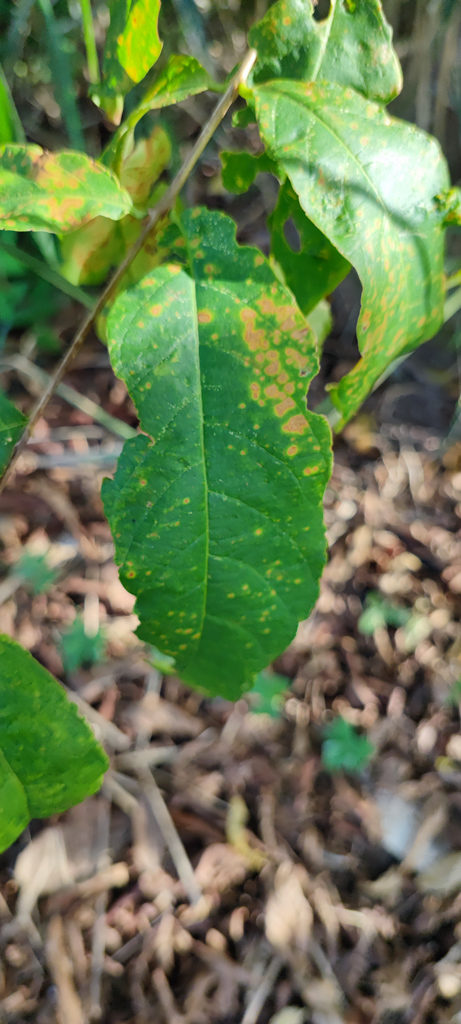frog-eye leafspot: (112, 229, 331, 706), (267, 65, 455, 442), (5, 138, 134, 236)
